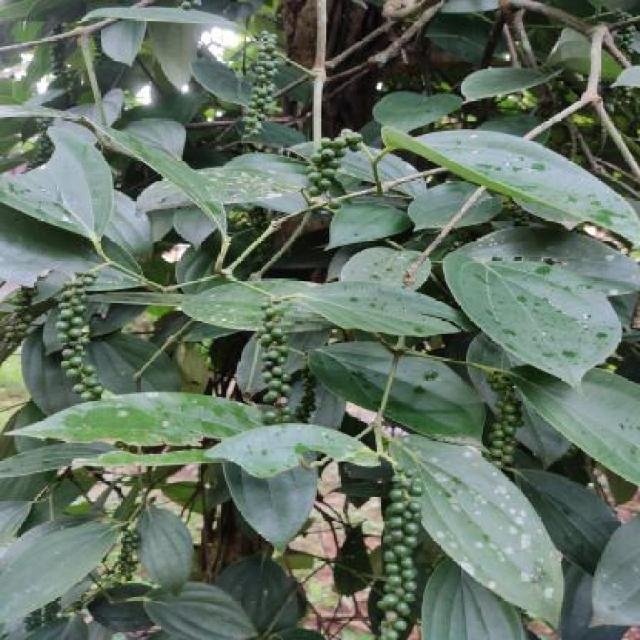UNRIPE: (380, 463, 423, 631), (54, 273, 106, 402), (258, 295, 294, 423), (482, 368, 525, 466), (243, 31, 282, 138), (305, 129, 363, 197), (3, 283, 39, 354), (245, 209, 274, 266), (606, 13, 640, 59), (30, 114, 56, 169), (22, 597, 62, 631), (116, 532, 139, 580), (297, 362, 314, 425), (48, 23, 66, 79), (620, 86, 635, 103)
